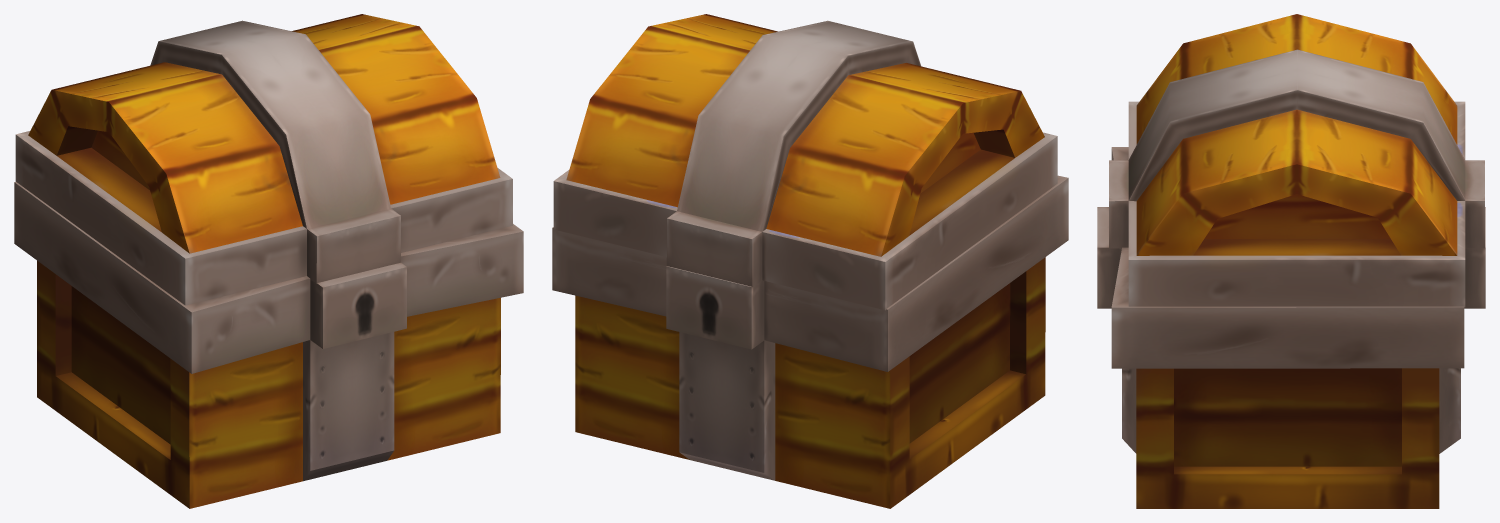
File: treasureboxfbx.FBX
3 renders of one model, left to right at view 1: azimuth 30°, elevation 25°; view 2: azimuth 150°, elevation 25°; view 3: azimuth 270°, elevation 25°, orthographic. The views are drawn at different scales.
Parts seen in each view (by area): view 1: Box001; view 2: Box001; view 3: Box001.
Boxes of the visible parts, x1,y1,x2,y2 form: Box001: [14, 14, 523, 508]; Box001: [552, 14, 1068, 508]; Box001: [1097, 14, 1485, 508].
Size of the model in its own units: 29.64 by 30.3 by 31.3.
